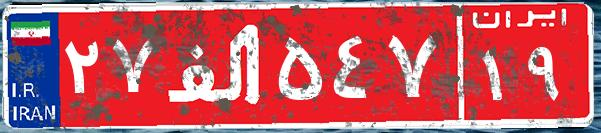1: (475, 38, 525, 113)
2: (57, 26, 110, 107)
4: (330, 28, 385, 110)
5: (273, 28, 330, 110)
7: (385, 28, 445, 110), (110, 28, 158, 105)
9: (525, 38, 570, 115)
الف: (158, 15, 273, 115)
